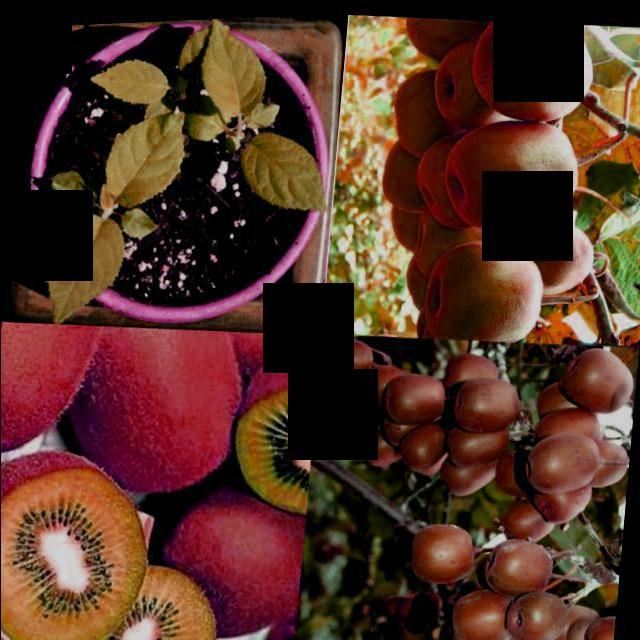kiwi: (64, 316, 249, 521), (440, 115, 579, 243), (424, 231, 550, 350), (470, 15, 600, 129), (518, 431, 612, 510), (449, 364, 539, 444), (515, 432, 607, 504), (558, 340, 640, 418), (479, 529, 574, 596), (404, 516, 472, 594), (383, 361, 451, 435), (423, 458, 493, 516), (501, 590, 581, 640), (321, 331, 377, 380), (321, 406, 377, 450)
